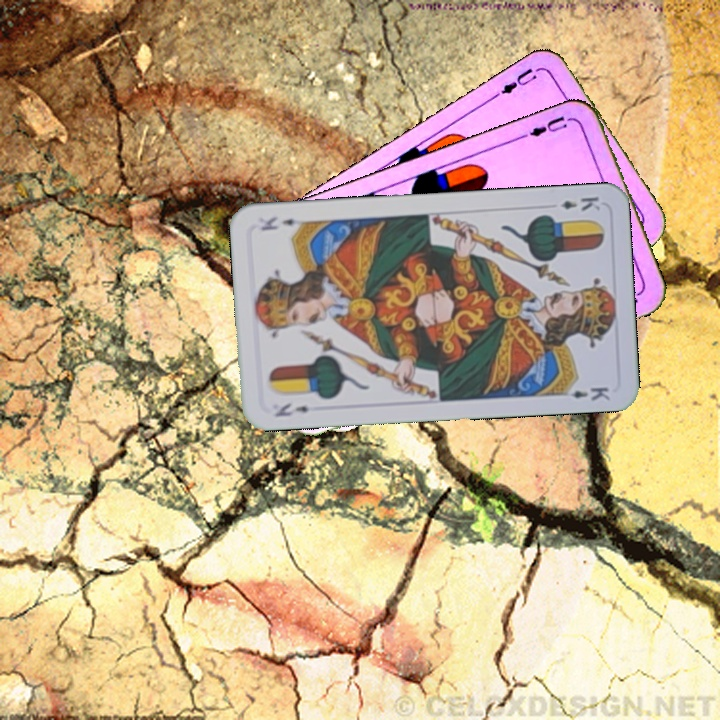EK: (557, 192, 603, 213), (271, 399, 312, 420)
EU: (490, 64, 540, 100), (519, 111, 576, 140)
